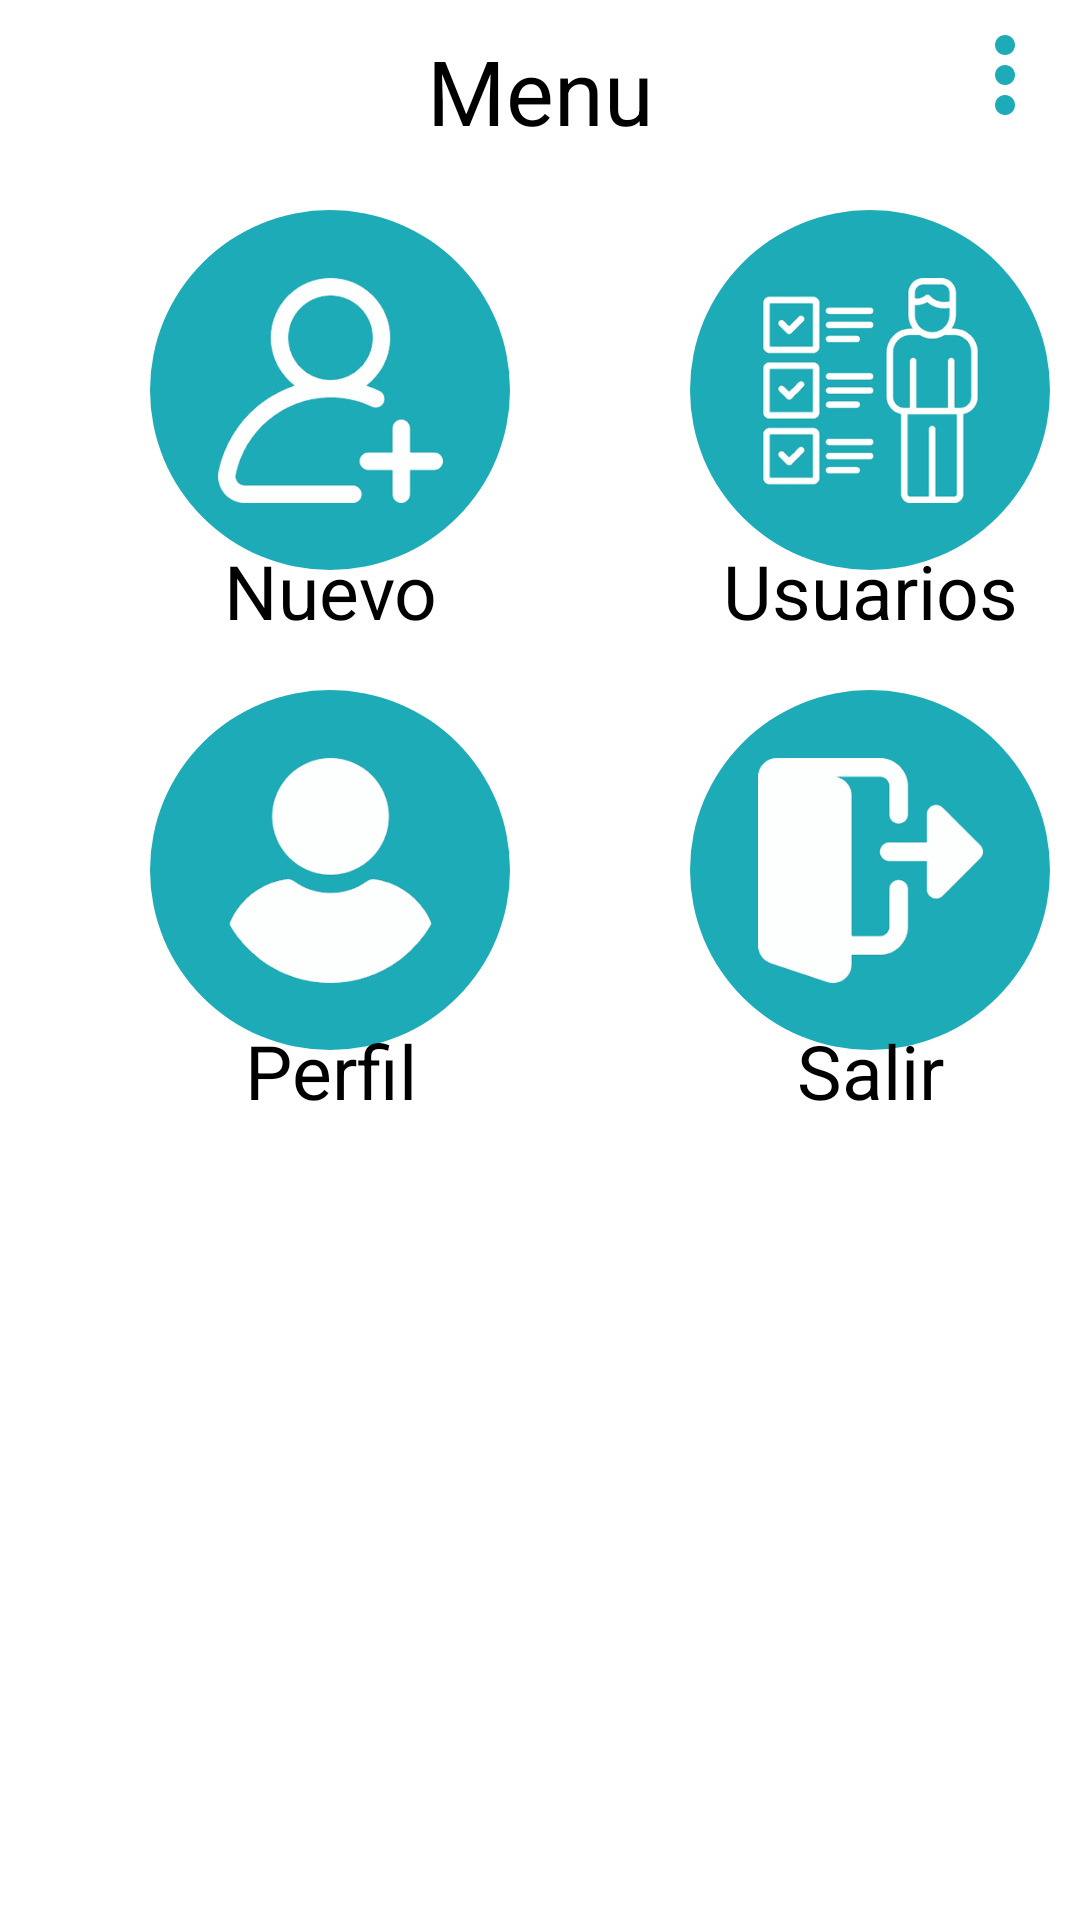

Named icons in this screenshot (1080 × 1920) and their bounding boxes, BBox(x1, y1, x2, y2):
points: BBox(995, 35, 1015, 115)
